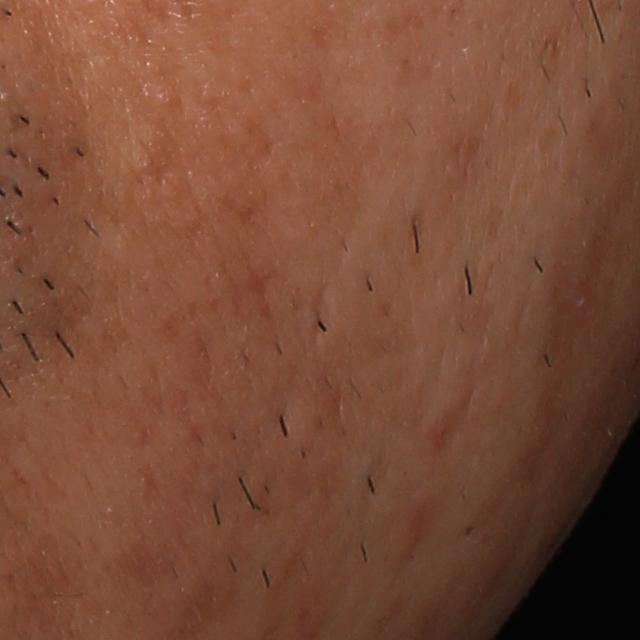atrophic_scar: (424, 335, 462, 391), (304, 279, 334, 347)
